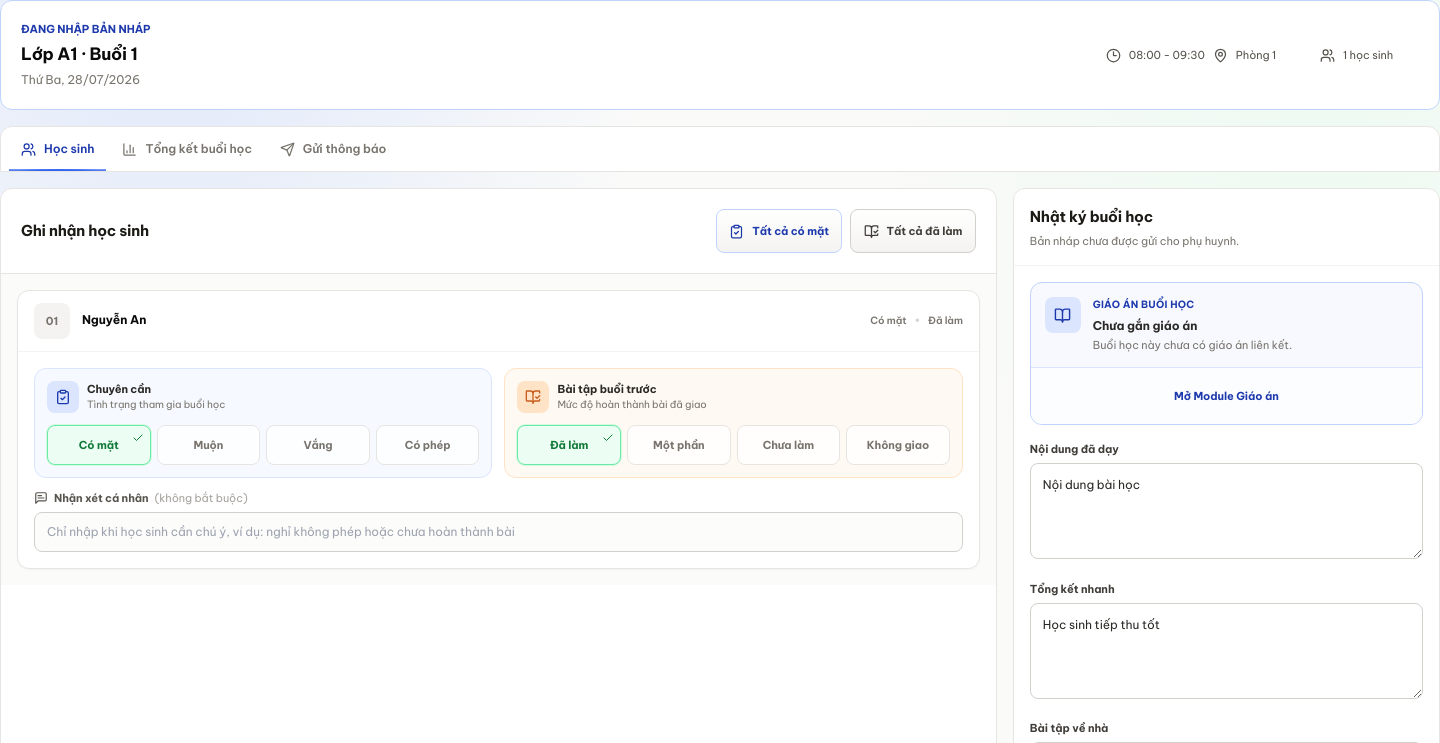
Scenario: ClassroomInteractionPage publishing › reports a publish failure without hiding the publishing controls
Click the tab "Gửi thông báo". click: (333, 149)
box: [268, 127, 398, 171]
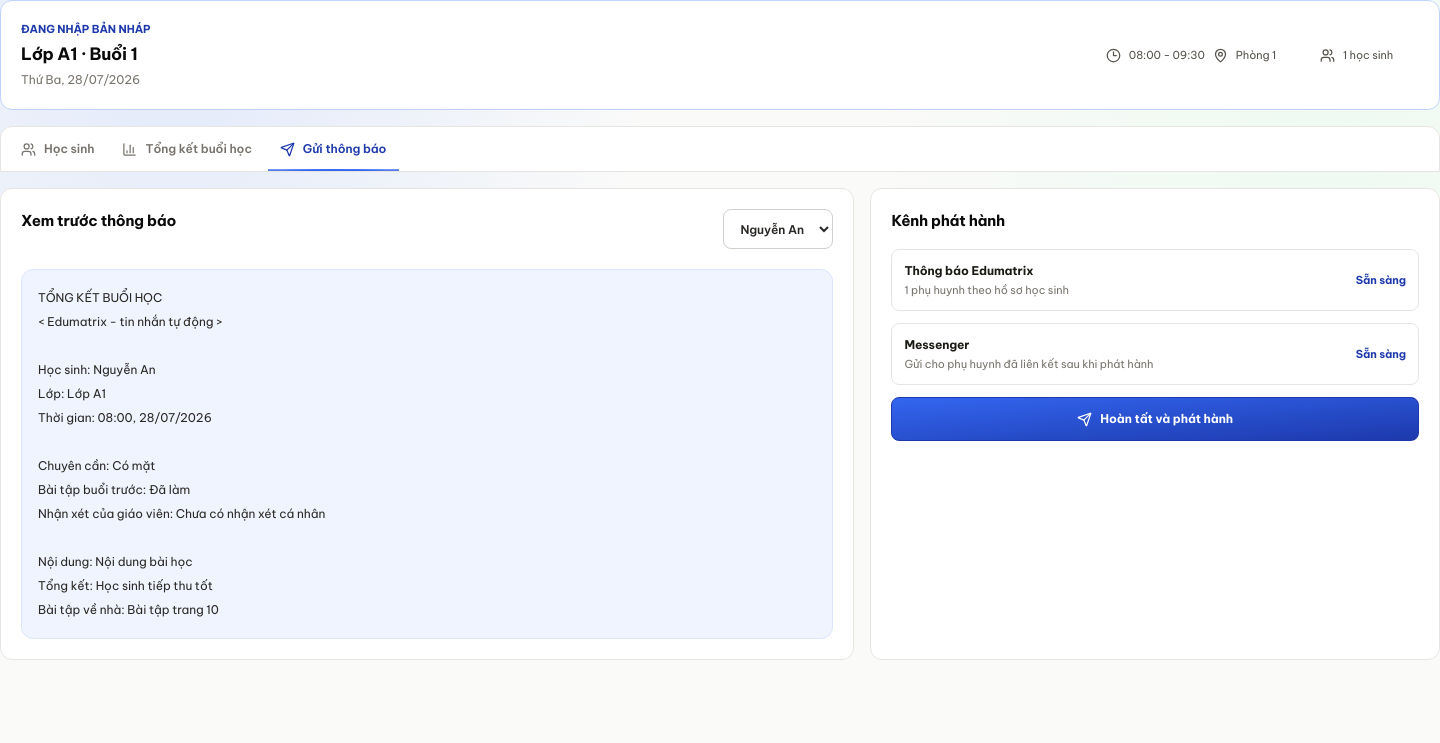
Expected: the button "Hoàn tất và phát hành" is enabled
Click the button "Hoàn tất và phát hành". click: (1155, 419)
box: [891, 397, 1419, 441]
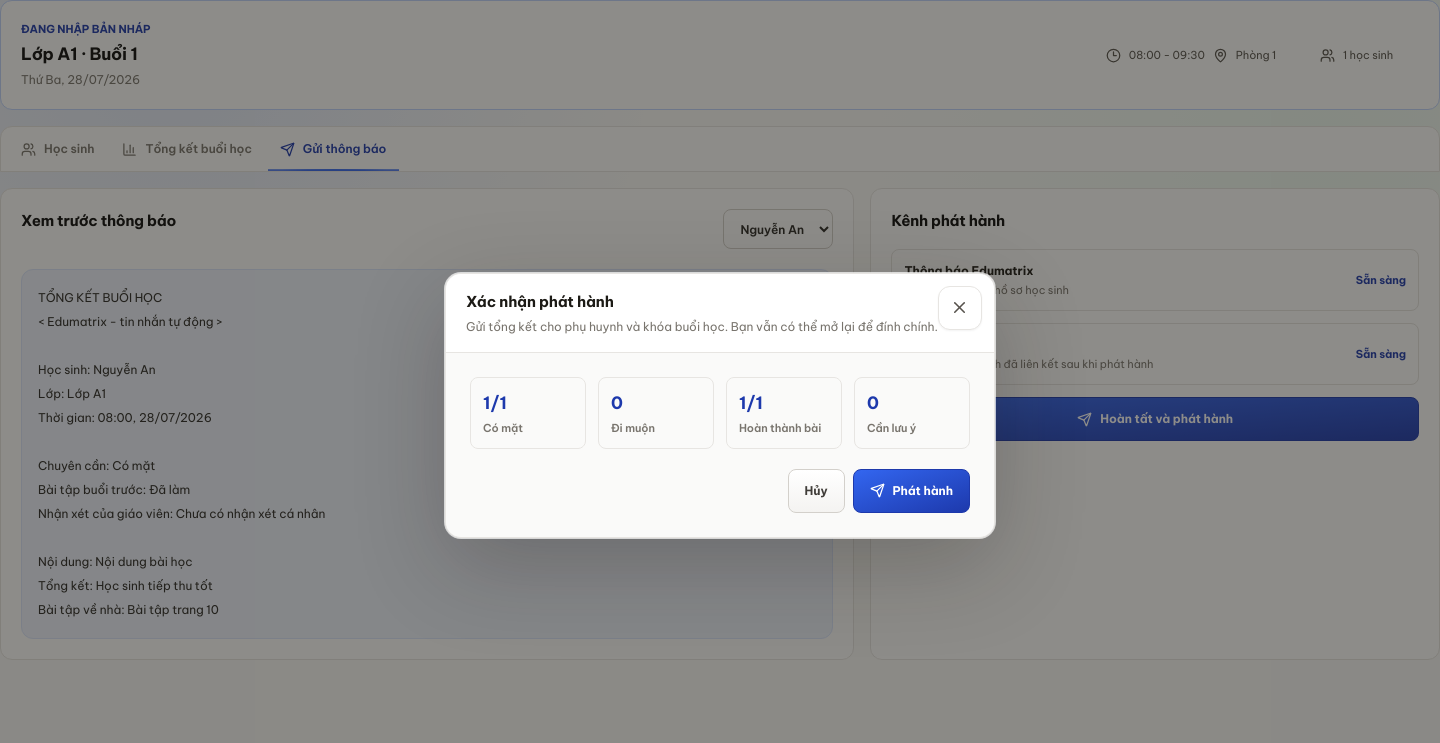
Click the button "Phát hành". click: (911, 490)
box: [852, 468, 970, 512]
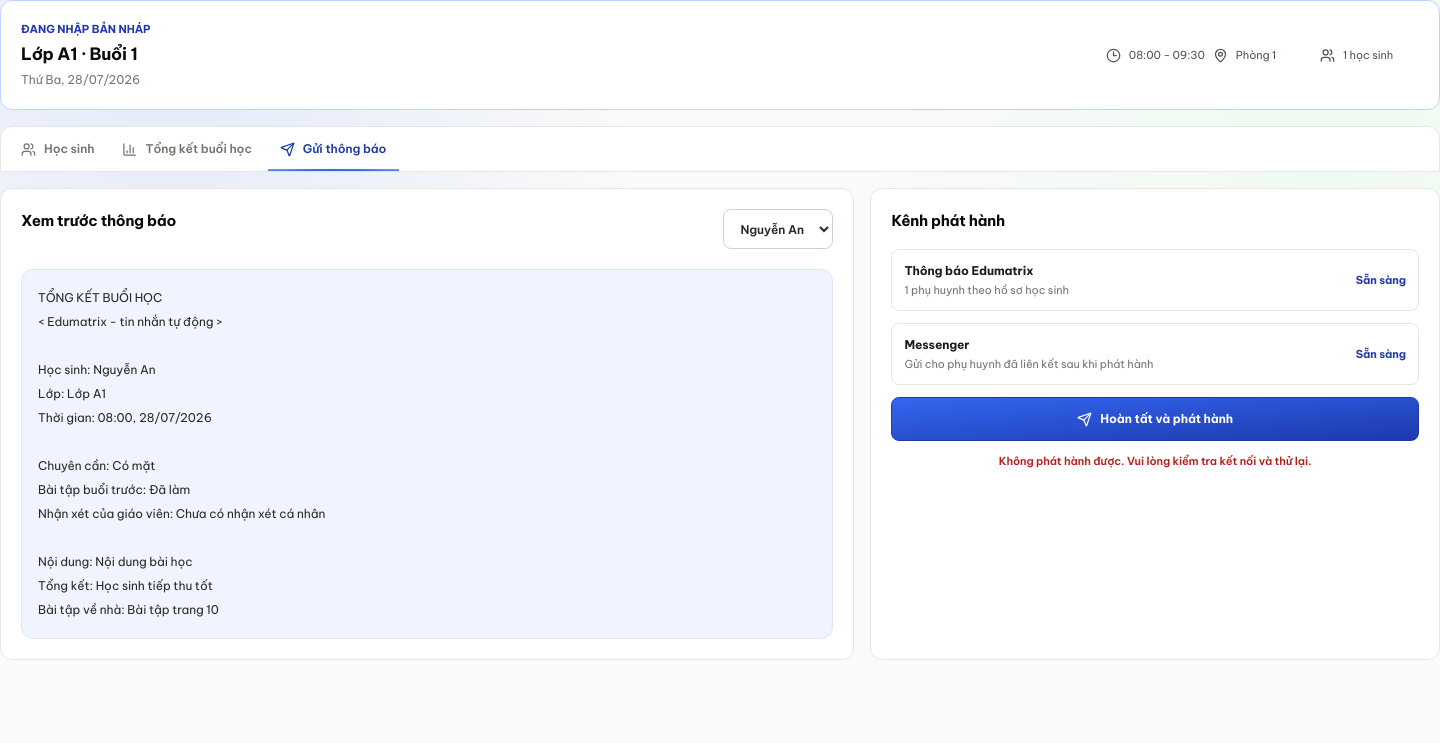
Expected: the button "Hoàn tất và phát hành" is shown, [891, 397, 1419, 441]
Expected: the message shows "Không phát hành được", [999, 454, 1312, 468]
